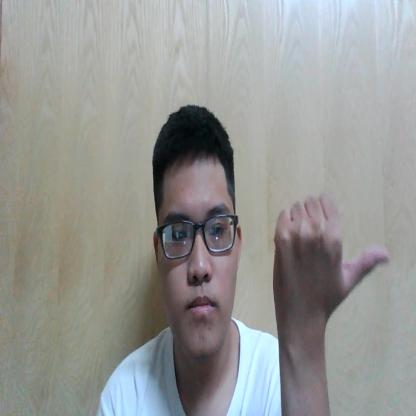left: (272, 194, 390, 323)
